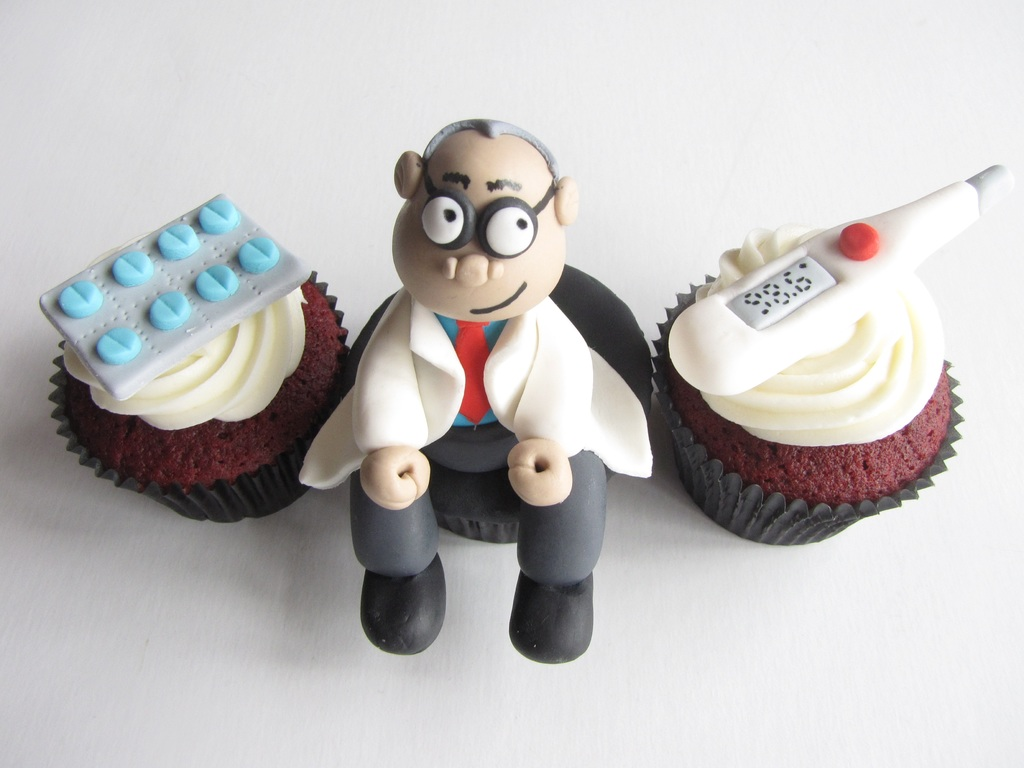cake: (296, 117, 650, 666), (650, 163, 1009, 548), (37, 193, 349, 527)
